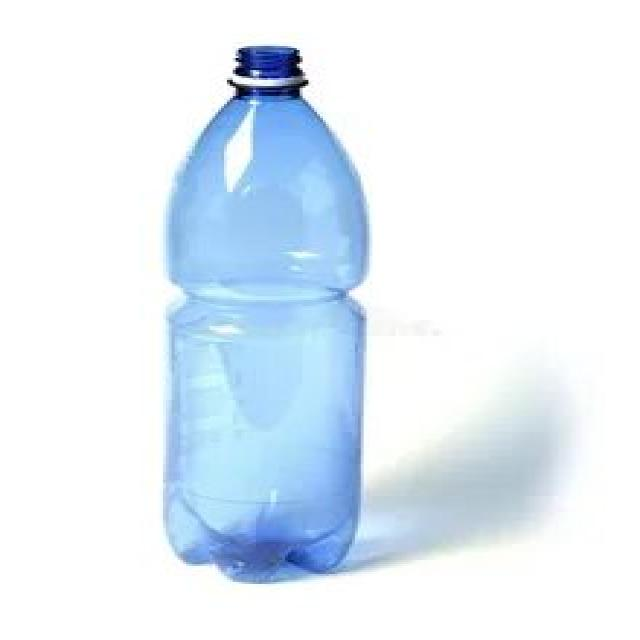blue: (170, 45, 363, 580)
